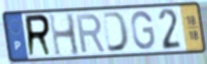2: (157, 8, 183, 52)
D: (101, 11, 131, 54)
G: (130, 10, 157, 52)
H: (47, 12, 82, 59)
R: (23, 12, 54, 59), (75, 13, 107, 55)
